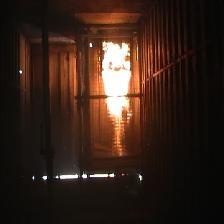fire: (102, 38, 134, 127)
